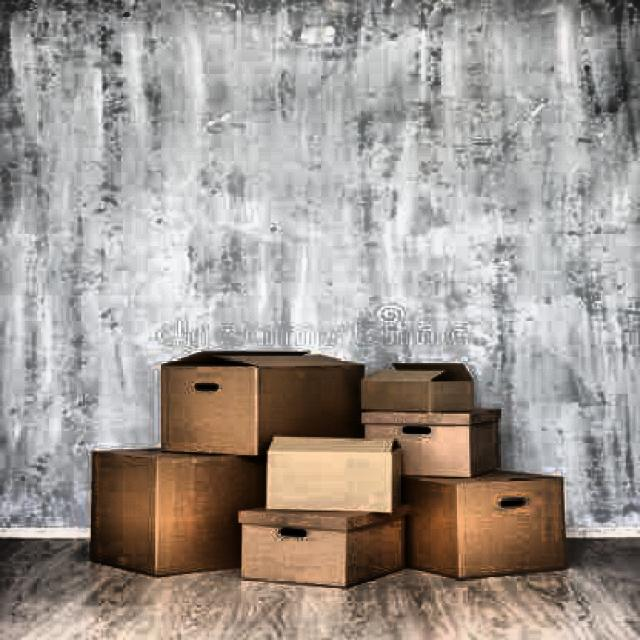Cardbox: (72, 416, 301, 575), (150, 326, 372, 457), (232, 457, 423, 593), (392, 449, 580, 581), (230, 411, 414, 519), (342, 394, 505, 481), (353, 336, 486, 420)
